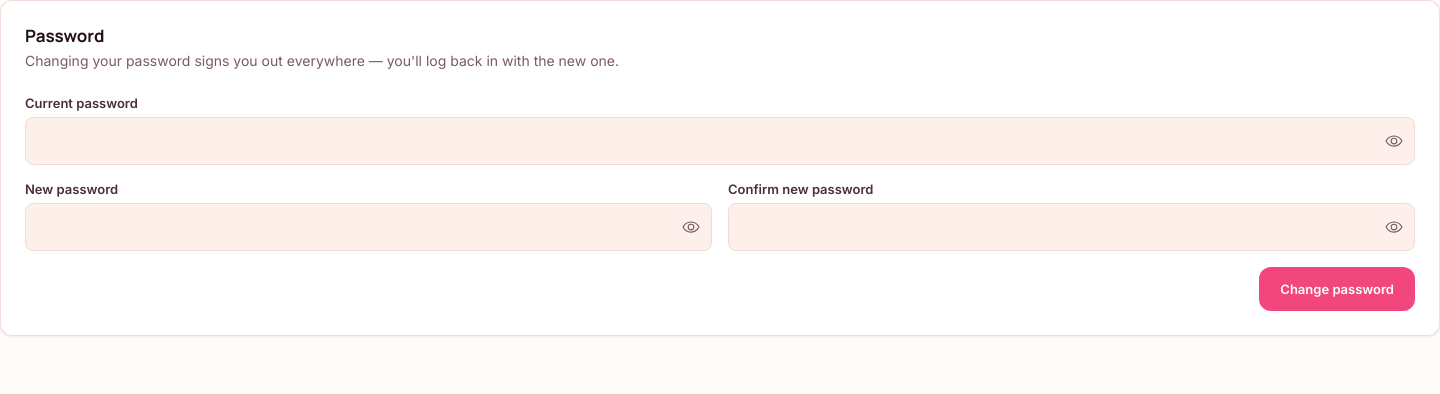
ChangePasswordCard › rejects an empty submission
What coordinates should you click on to do the following:
click the button named "Change password"
I would click on:
 (1337, 289)
Its box is left=1259, top=267, right=1415, bottom=311.
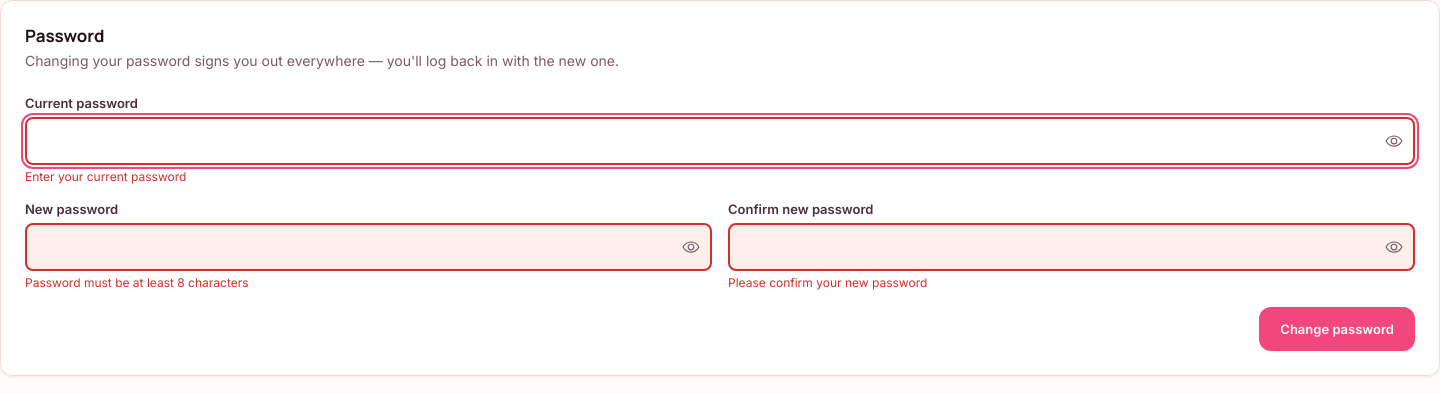
Result: the text "Enter your current password" is shown at left=25, top=169, right=186, bottom=184
